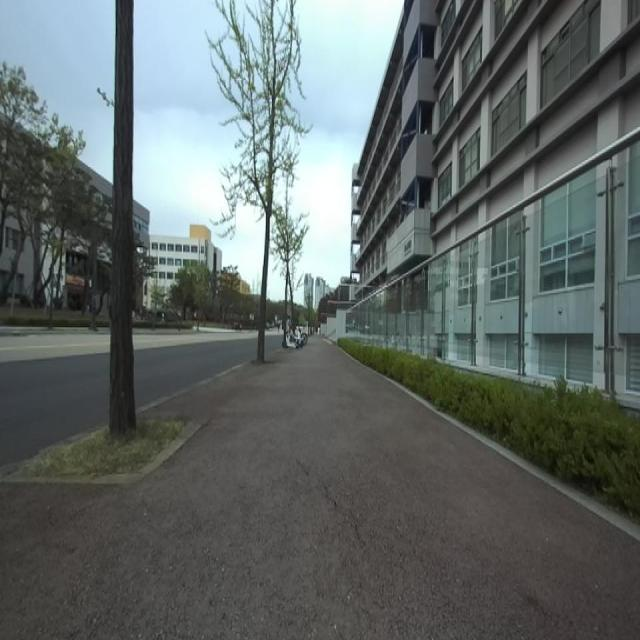sidewalk: (0, 338, 640, 639), (380, 374, 640, 541), (136, 362, 249, 415), (0, 428, 100, 478)
